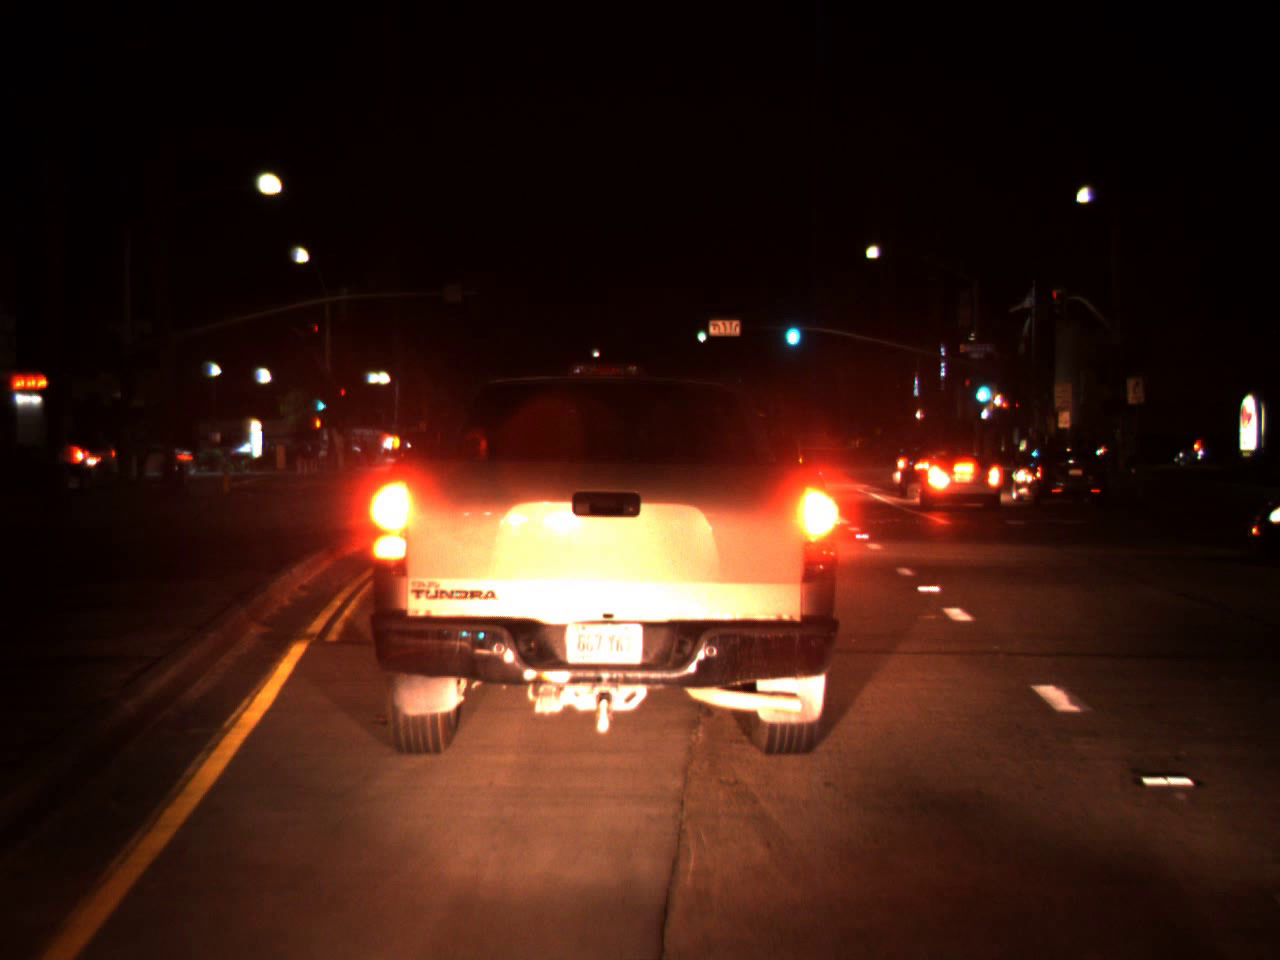go: (780, 306, 803, 351), (972, 364, 993, 409), (694, 320, 706, 344), (315, 392, 325, 413)
